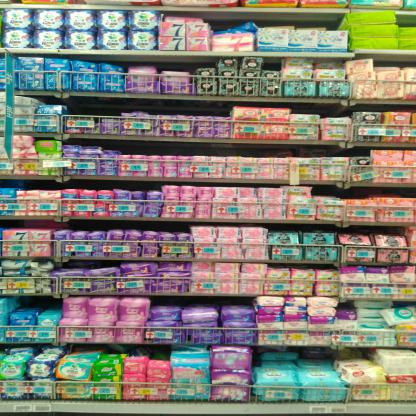Void: (70, 96, 229, 118), (69, 217, 186, 230), (261, 10, 341, 26), (150, 294, 247, 306), (292, 102, 346, 117), (130, 341, 170, 359), (320, 183, 359, 199), (22, 296, 57, 312), (306, 344, 332, 362), (378, 54, 411, 67), (265, 58, 278, 69)
